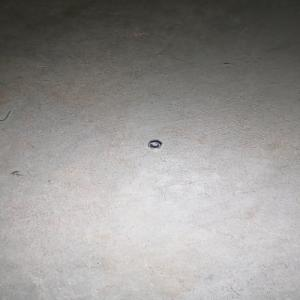Nut: (147, 141, 161, 150)
